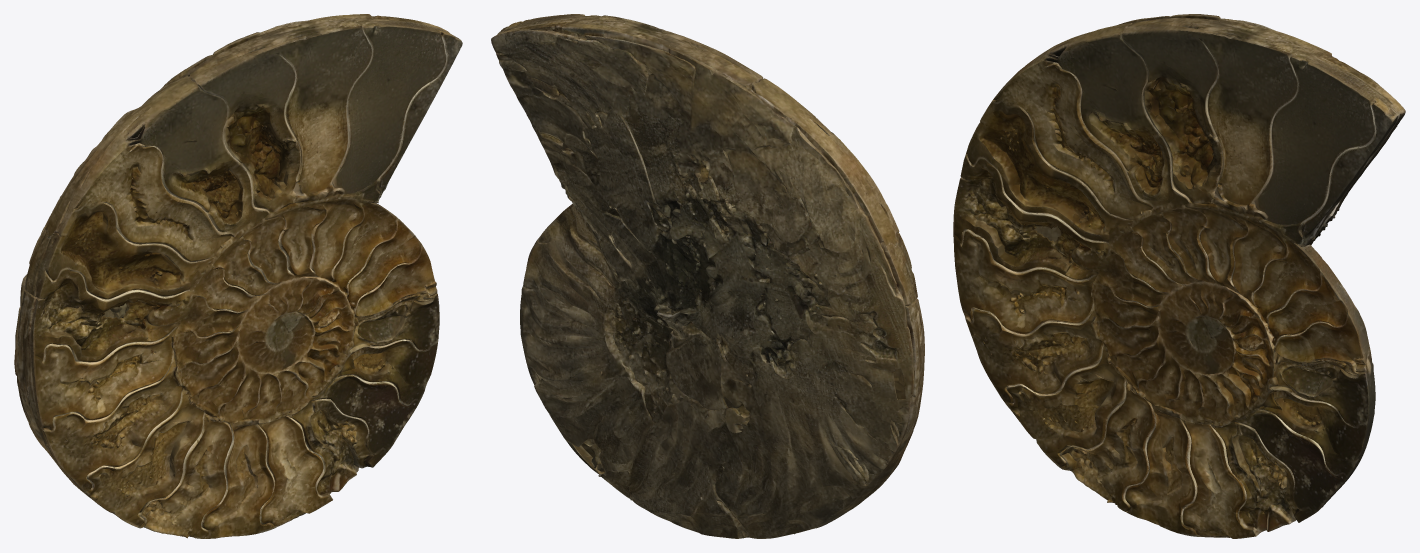
The model's file is ammonite_2.glb.
3 views of the same model, side by side, from view 1: azimuth 30°, elevation 25°; view 2: azimuth 150°, elevation 25°; view 3: azimuth 330°, elevation 25° (orthographic). The views are drawn at different scales.
Size of the model in its own units: 1.75 by 1.89 by 0.2506.
Materials: 1 (1 with a texture image).
